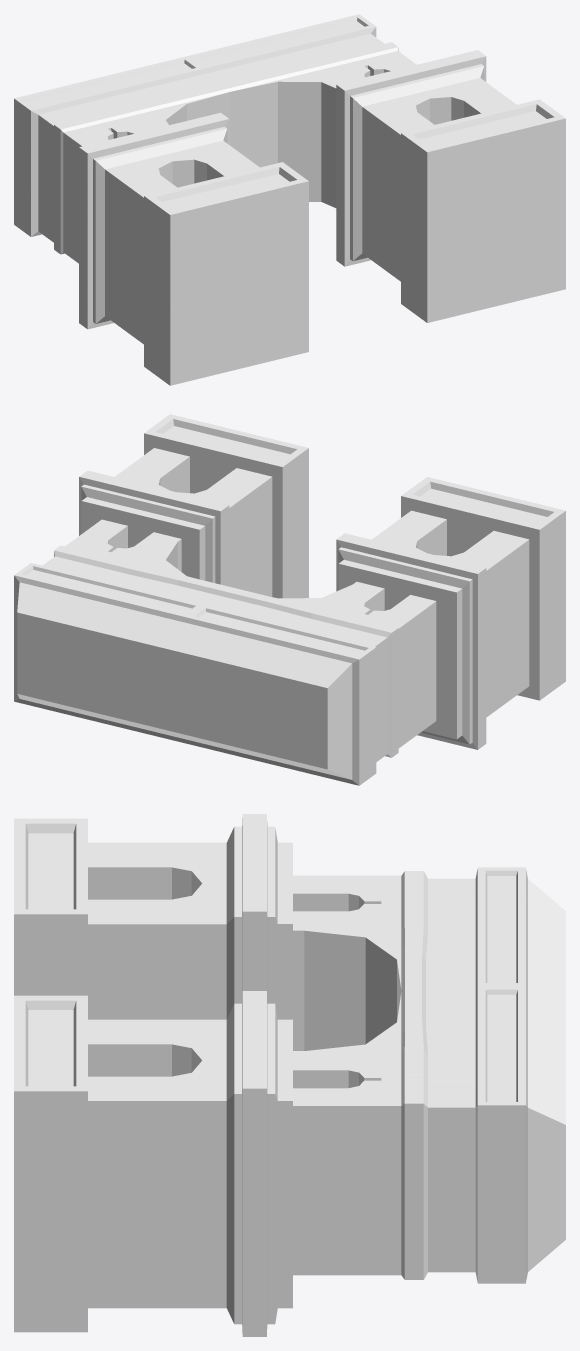
The model's file is venice_building_6.fbx.
3 views of the same model, one above another, from view 1: azimuth 30°, elevation 25°; view 2: azimuth 150°, elevation 25°; view 3: azimuth 270°, elevation 25° (orthographic). The views are drawn at different scales.
Parts seen in each view (by area): view 1: Cube.303; view 2: Cube.303; view 3: Cube.303.
Boxes of the visible parts, <box> form: Cube.303: <box>14,14,565,385</box>; Cube.303: <box>14,414,565,785</box>; Cube.303: <box>14,814,565,1336</box>.
Size of the model in its own units: 2253 by 950 by 1914.
